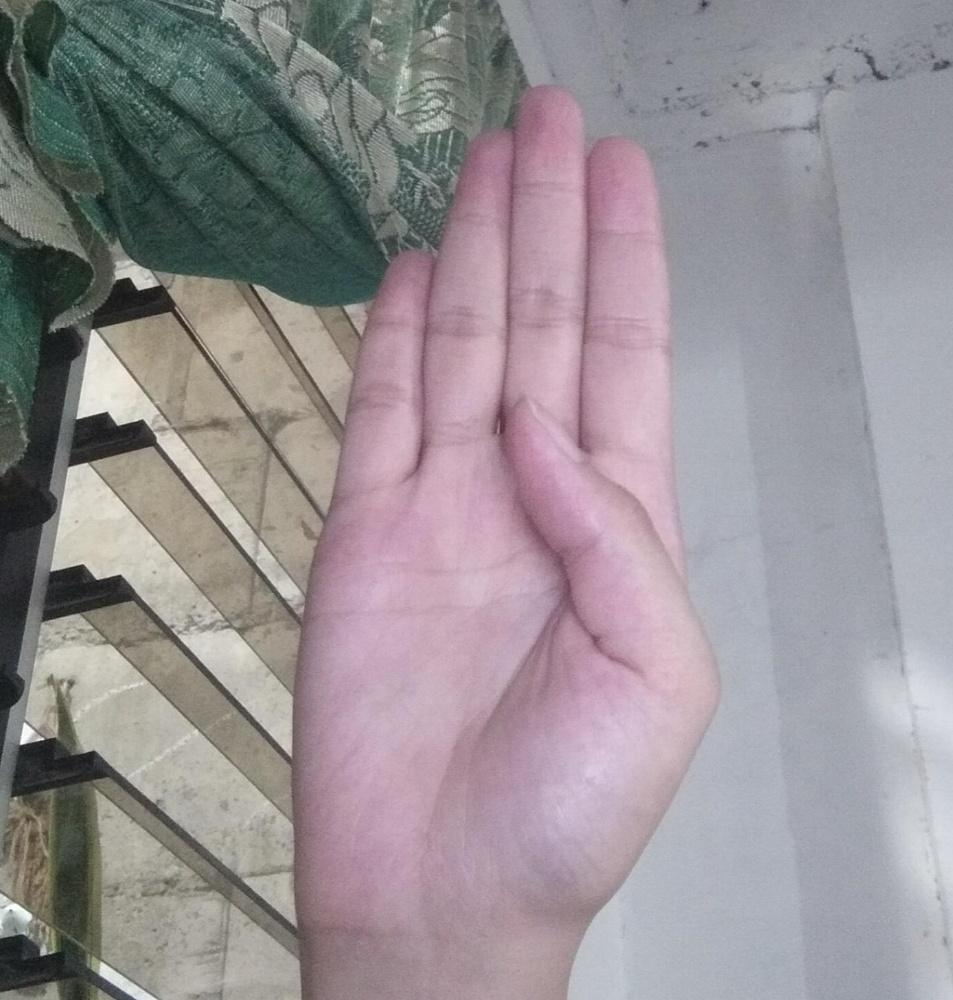b: (289, 86, 724, 951)
